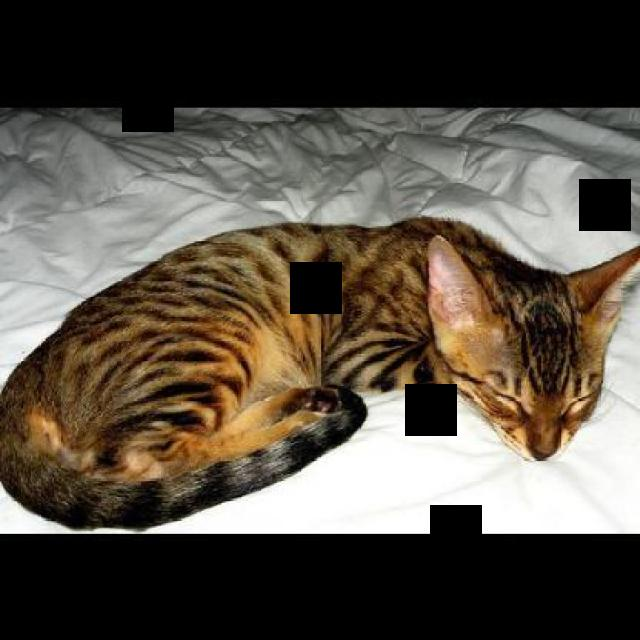unauthorized: (0, 213, 638, 529)
